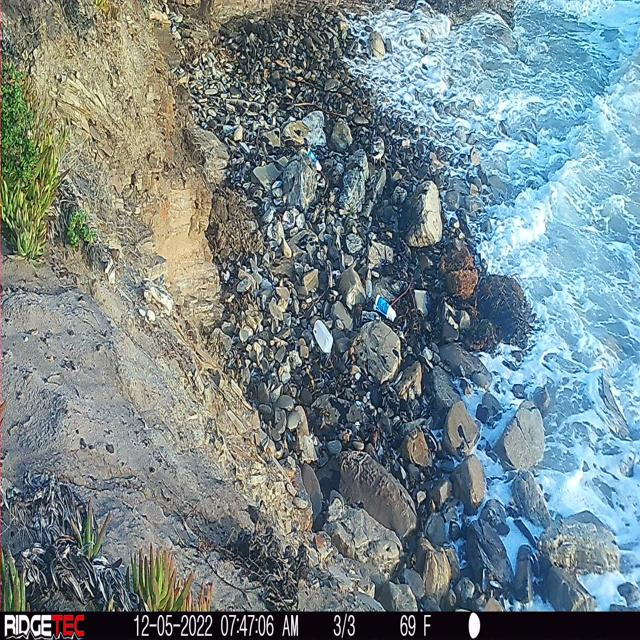bird: (366, 121, 389, 173)
